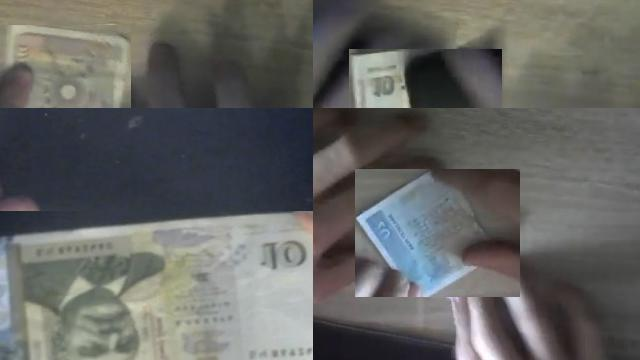10leva: (0, 211, 313, 360), (7, 25, 131, 108), (349, 49, 468, 108)
20leva: (355, 169, 520, 297)
